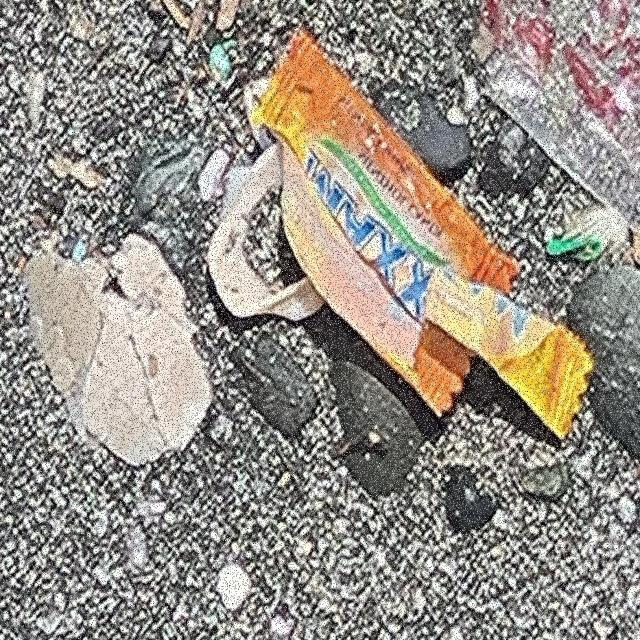plastic_waste: (251, 22, 600, 445)
